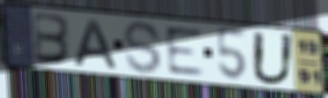5: (214, 25, 249, 84)
A: (71, 16, 118, 69)
B: (31, 10, 73, 67)
E: (163, 25, 207, 77)
S: (122, 19, 164, 77)
U: (249, 29, 297, 87)
